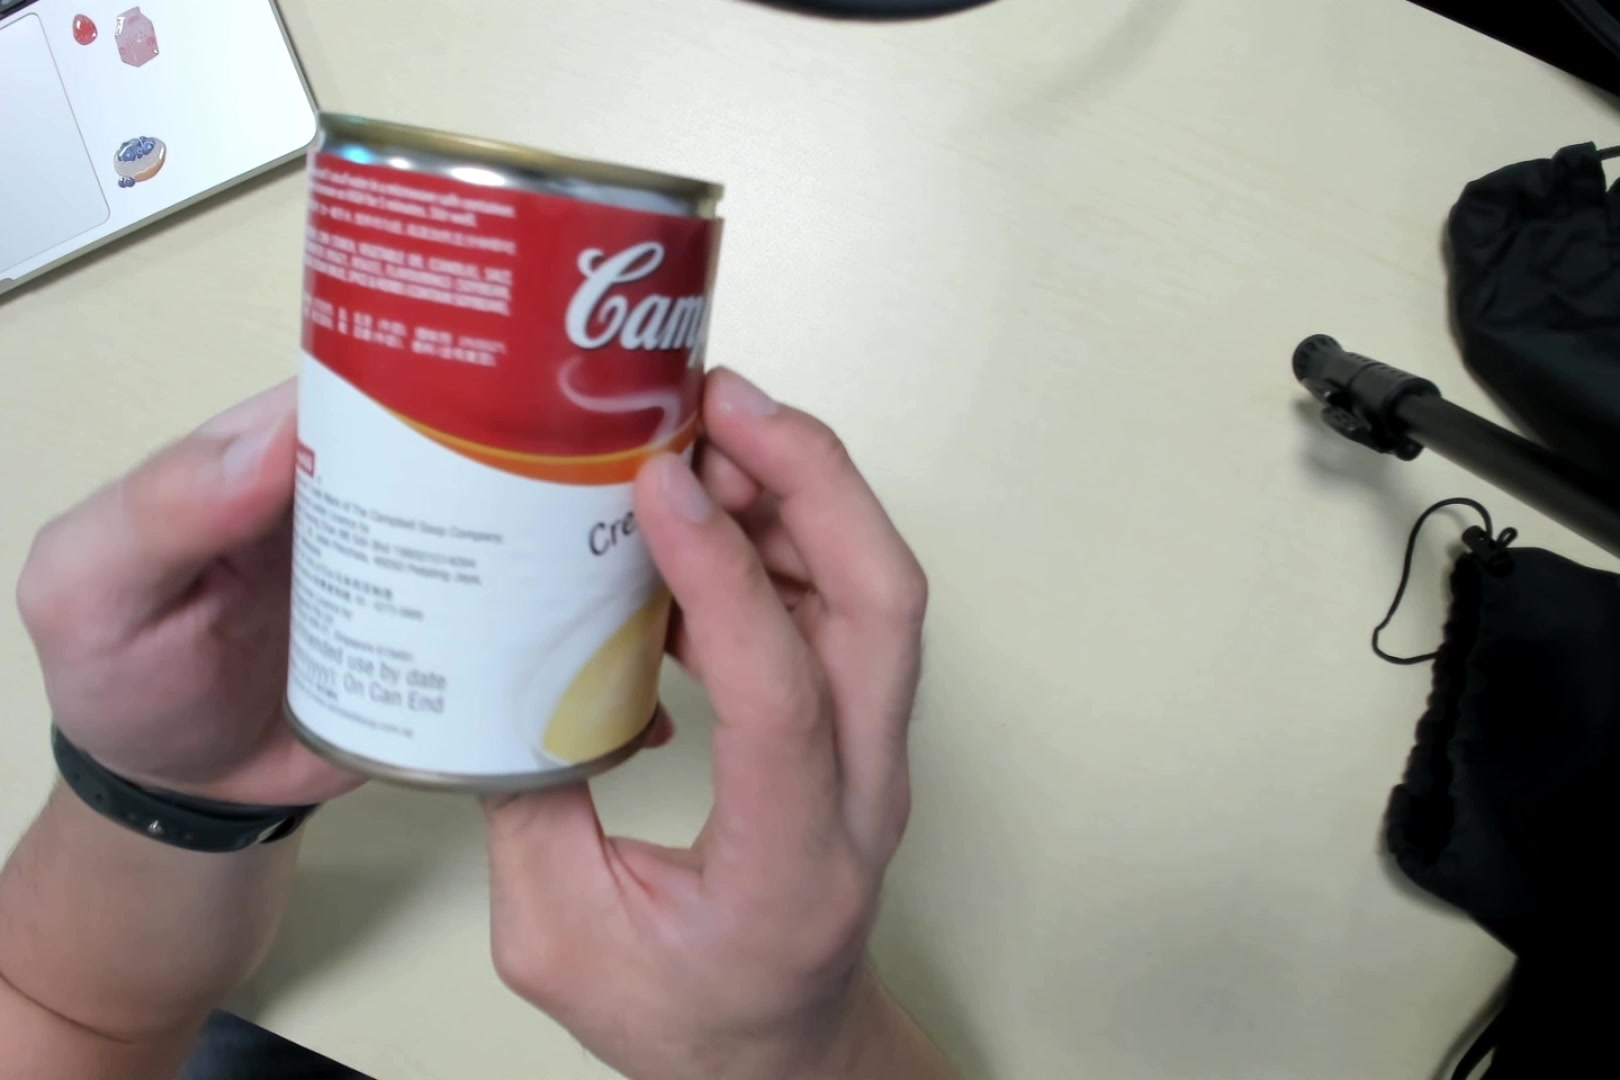CannedSoup_300-399g_Halal_NonHealthy: (290, 108, 708, 809)
